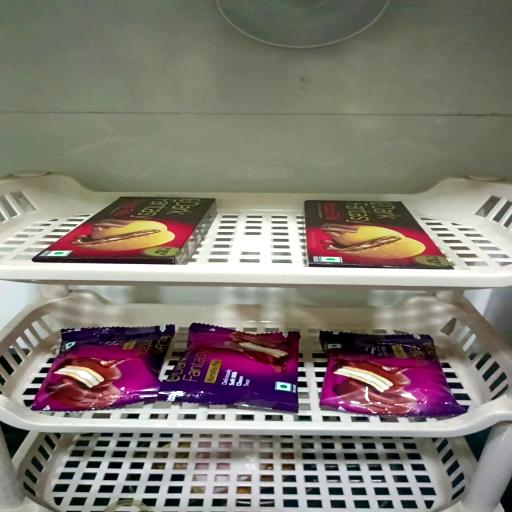Choco Fills: (32, 198, 214, 266), (305, 202, 452, 270)
Choco Pie: (318, 332, 466, 417), (30, 326, 174, 411), (163, 324, 300, 412)
